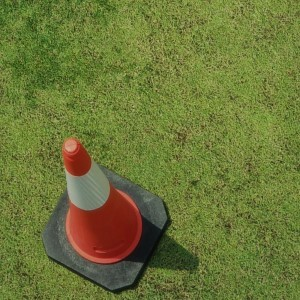traffic cone: (42, 138, 169, 291)
